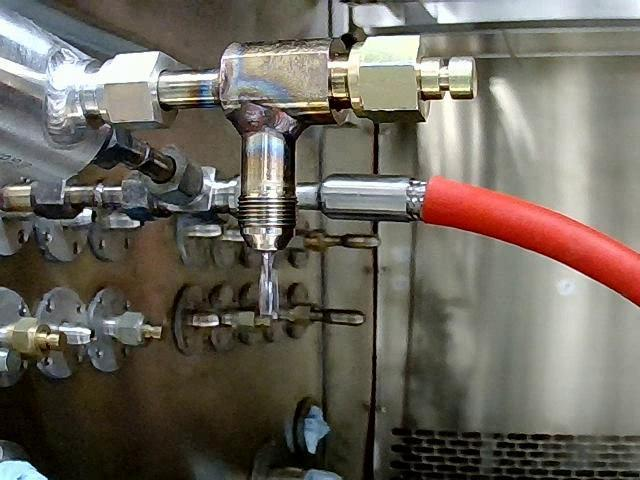water drop: (255, 250, 281, 321)
